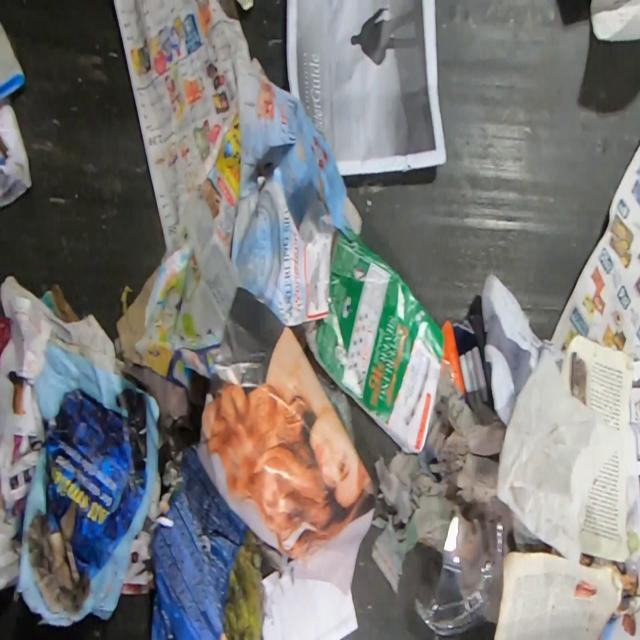cardboard: (303, 224, 446, 453), (148, 449, 296, 639), (434, 312, 497, 415), (115, 266, 160, 365), (0, 20, 25, 172)
rigid_plastic: (413, 506, 503, 635)
